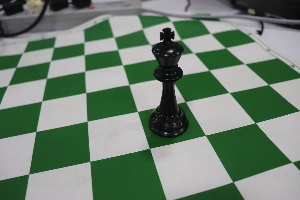black_king: (141, 15, 195, 147)
